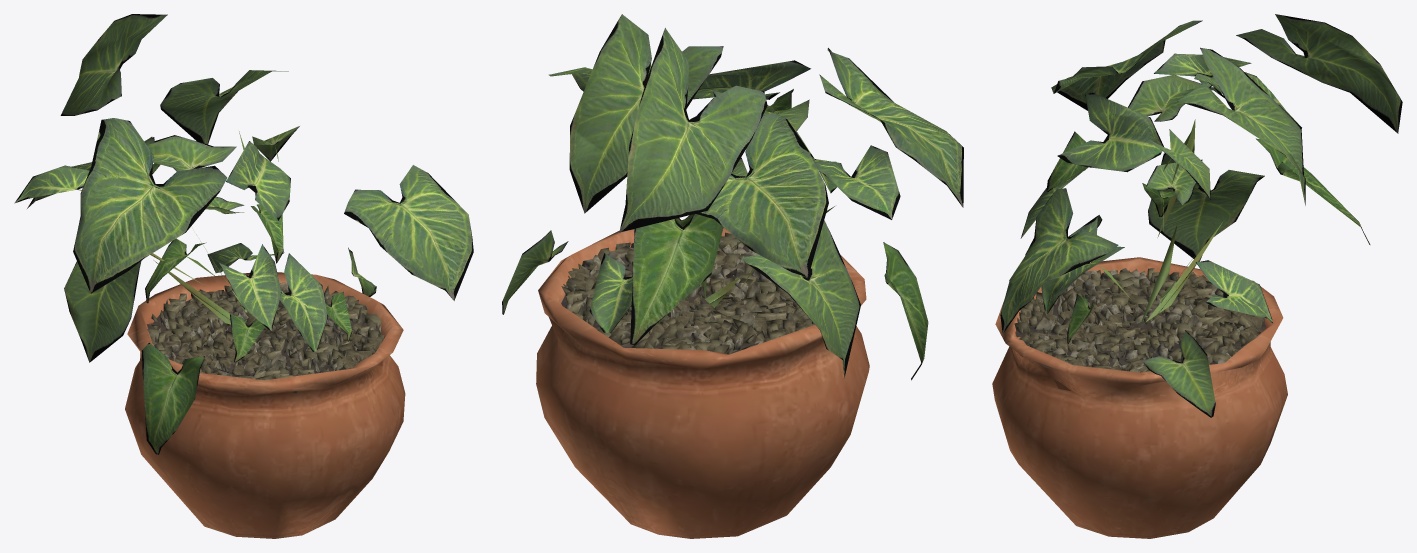
Rendered from potted_plant_02.glb.
3 renders of one model, left to right at view 1: azimuth 30°, elevation 25°; view 2: azimuth 150°, elevation 25°; view 3: azimuth 270°, elevation 25°, orthographic. The views are drawn at different scales.
Parts seen in each view (by area): view 1: potted_plant_02_leaves, potted_plant_02_pot, potted_plant_02_dirt; view 2: potted_plant_02_leaves, potted_plant_02_pot, potted_plant_02_dirt; view 3: potted_plant_02_leaves, potted_plant_02_pot, potted_plant_02_dirt.
Part boxes in pixels (<box>): potted_plant_02_leaves: <box>14,14,473,454</box>; potted_plant_02_pot: <box>125,272,405,538</box>; potted_plant_02_dirt: <box>146,282,384,393</box>; potted_plant_02_leaves: <box>502,14,963,380</box>; potted_plant_02_pot: <box>536,227,869,538</box>; potted_plant_02_dirt: <box>561,232,814,366</box>; potted_plant_02_leaves: <box>1000,14,1402,417</box>; potted_plant_02_pot: <box>992,257,1287,538</box>; potted_plant_02_dirt: <box>1014,268,1265,372</box>.
Bounding box in the file's own units: 0.7009 × 0.8395 × 0.6561.
2 materials, 2 textured.
